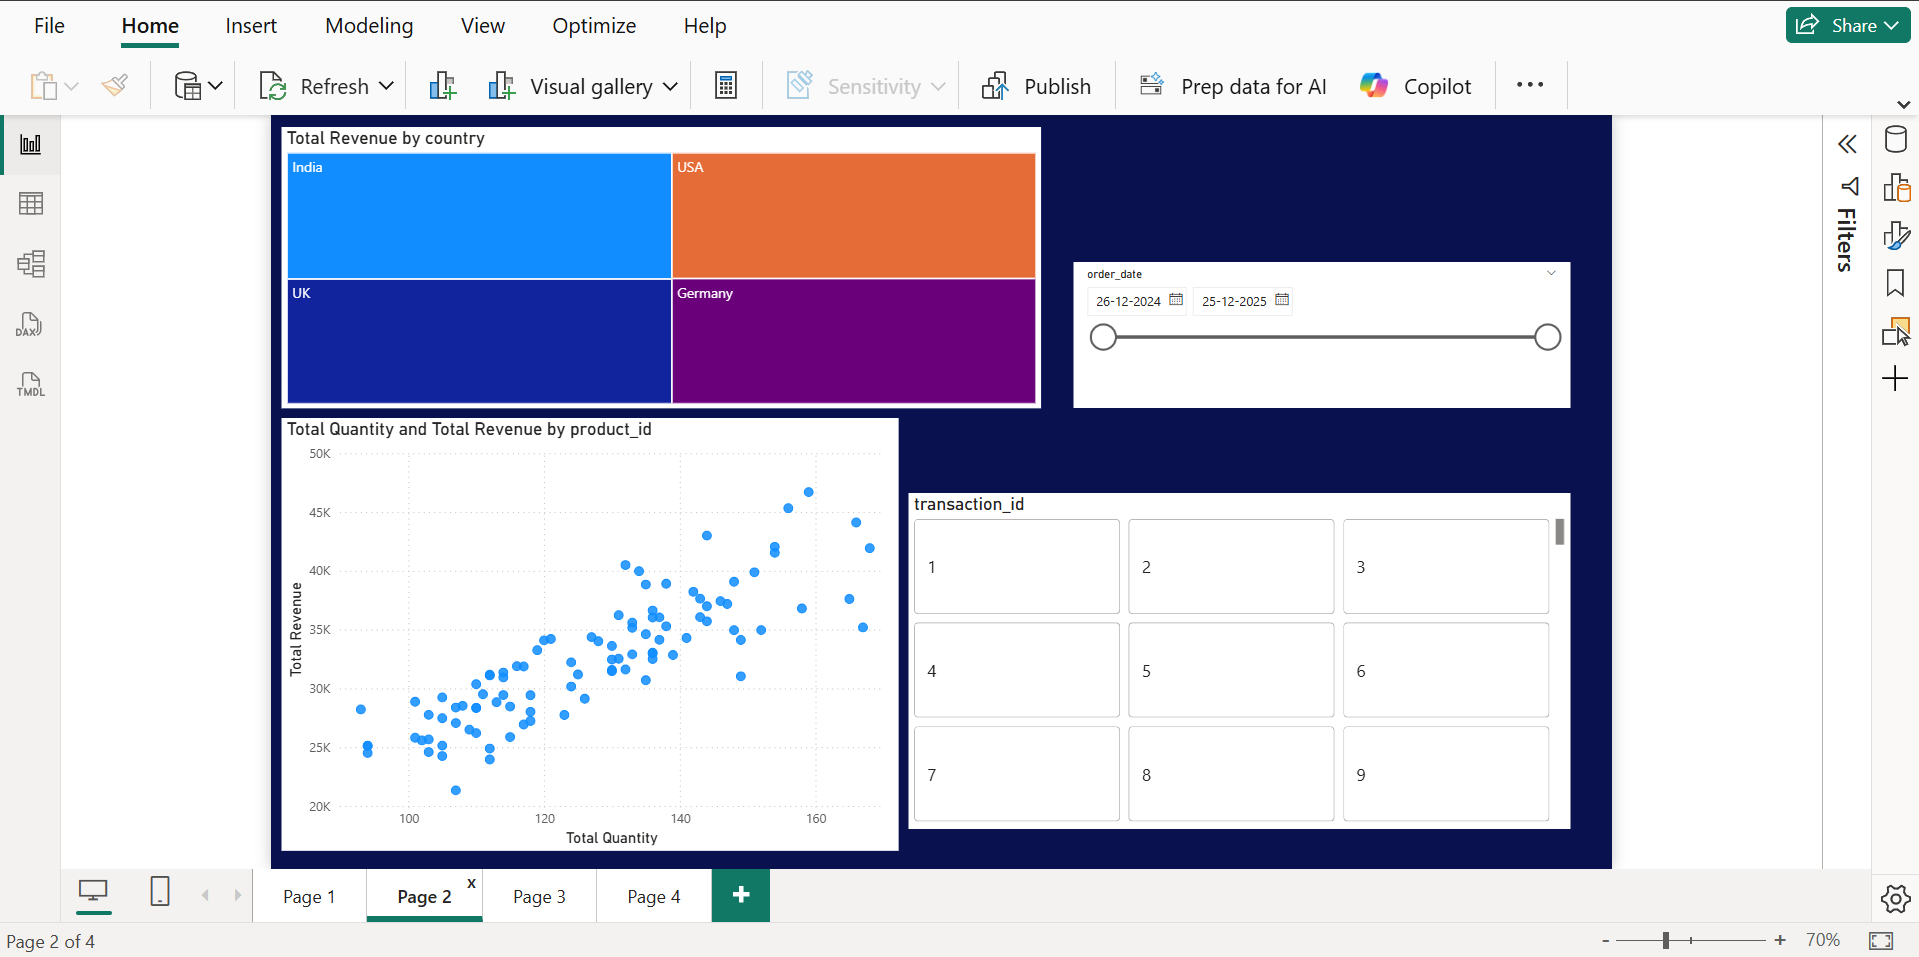

The page's visual inventory and layout, read from the dashboard file:
{"tool":"powerbi","page":{"name":"Page 2","canvas":[1280,720],"ordinal":1},"visuals":[{"type":"treemap","fields":{"Values":["Measures (2).Total Revenue"],"Group":["warehouse fact_sales.country"]},"box":[9.5,11.1,725.3,268.8],"z":0},{"type":"scatterChart","fields":{"Category":["warehouse fact_sales.product_id"],"X":["Measures (2).Total Quantity"],"Y":["Measures (2).Total Revenue"]},"box":[10.1,289.6,589.4,413.2],"z":1000},{"type":"advancedSlicerVisual","fields":{"Values":["warehouse fact_sales.transaction_id"]},"box":[609.2,361.1,631.5,319.7],"z":3000},{"type":"slicer","fields":{"Values":["warehouse fact_sales.order_date"]},"box":[766.7,140,474,138.4],"z":3001}]}

Visuals, with their boxes on the page's 1280x720 design canvas (x1, y1, x2, y2). These are canvas units, not pixel positions in the 1919x957 screenshot, which may show the page scaled, cropped or inside an application window:
treemap - Measures (2).Total Revenue x warehouse fact_sales.country: <region>10, 11, 735, 280</region>
scatterChart - warehouse fact_sales.product_id x Measures (2).Total Quantity: <region>10, 290, 600, 703</region>
advancedSlicerVisual - warehouse fact_sales.transaction_id: <region>609, 361, 1241, 681</region>
slicer - warehouse fact_sales.order_date: <region>767, 140, 1241, 278</region>
